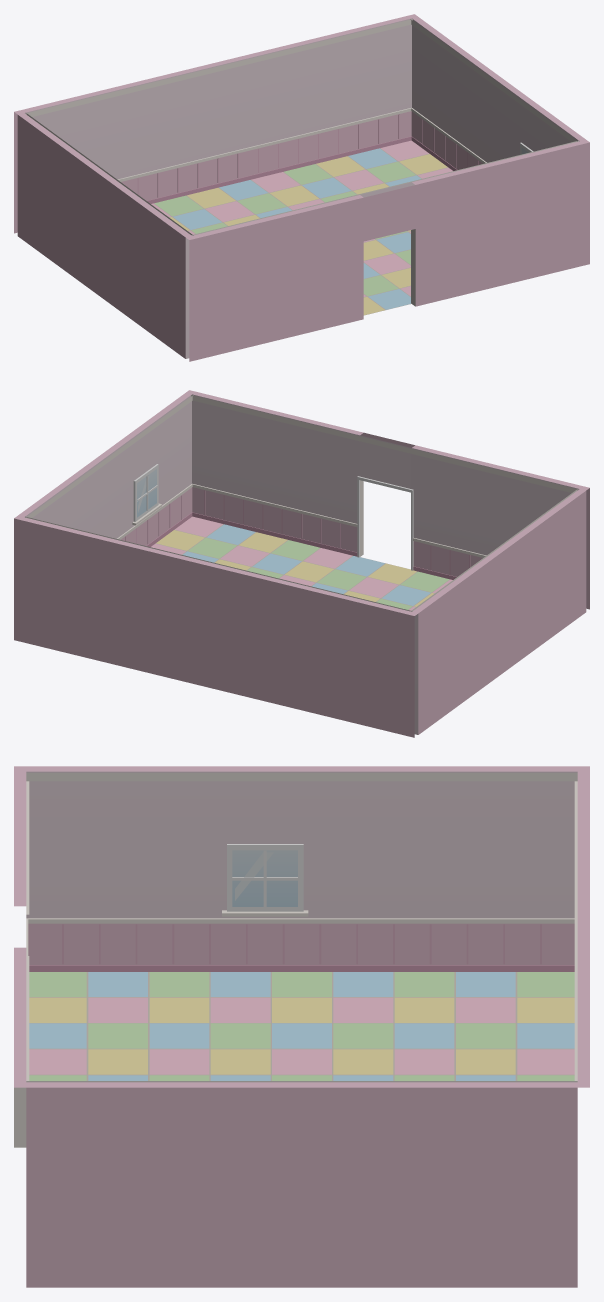
Rendered from prasekolah_interior_shell.glb.
The picture shows the model from 3 angles, top to bottom: view 1: azimuth 30°, elevation 25°; view 2: azimuth 150°, elevation 25°; view 3: azimuth 270°, elevation 25°; orthographic projection. The views are drawn at different scales.
Parts seen in each view (by area): view 1: dinding_selatan, dinding_utara, dinding_barat, lantai, dinding_timur; view 2: dinding_utara, dinding_selatan, dinding_barat, dinding_timur, lantai; view 3: dinding_timur, dinding_barat, lantai, dinding_selatan, dinding_utara.
Part boxes in pixels (x1,y1,x2,y2): dinding_selatan: (185, 140, 589, 361); dinding_utara: (14, 14, 417, 233); dinding_barat: (17, 113, 193, 358); lantai: (151, 140, 452, 315); dinding_timur: (410, 17, 585, 170); dinding_utara: (14, 516, 418, 737); dinding_selatan: (186, 390, 589, 609); dinding_barat: (410, 489, 586, 734); dinding_timur: (18, 393, 193, 546); lantai: (151, 516, 452, 610); dinding_timur: (26, 1081, 577, 1287); dinding_barat: (26, 766, 577, 971); lantai: (29, 972, 574, 1080); dinding_selatan: (14, 766, 29, 1147); dinding_utara: (574, 766, 589, 1087).
Size of the model in its own units: 12.4 by 3.6 by 9.4.
